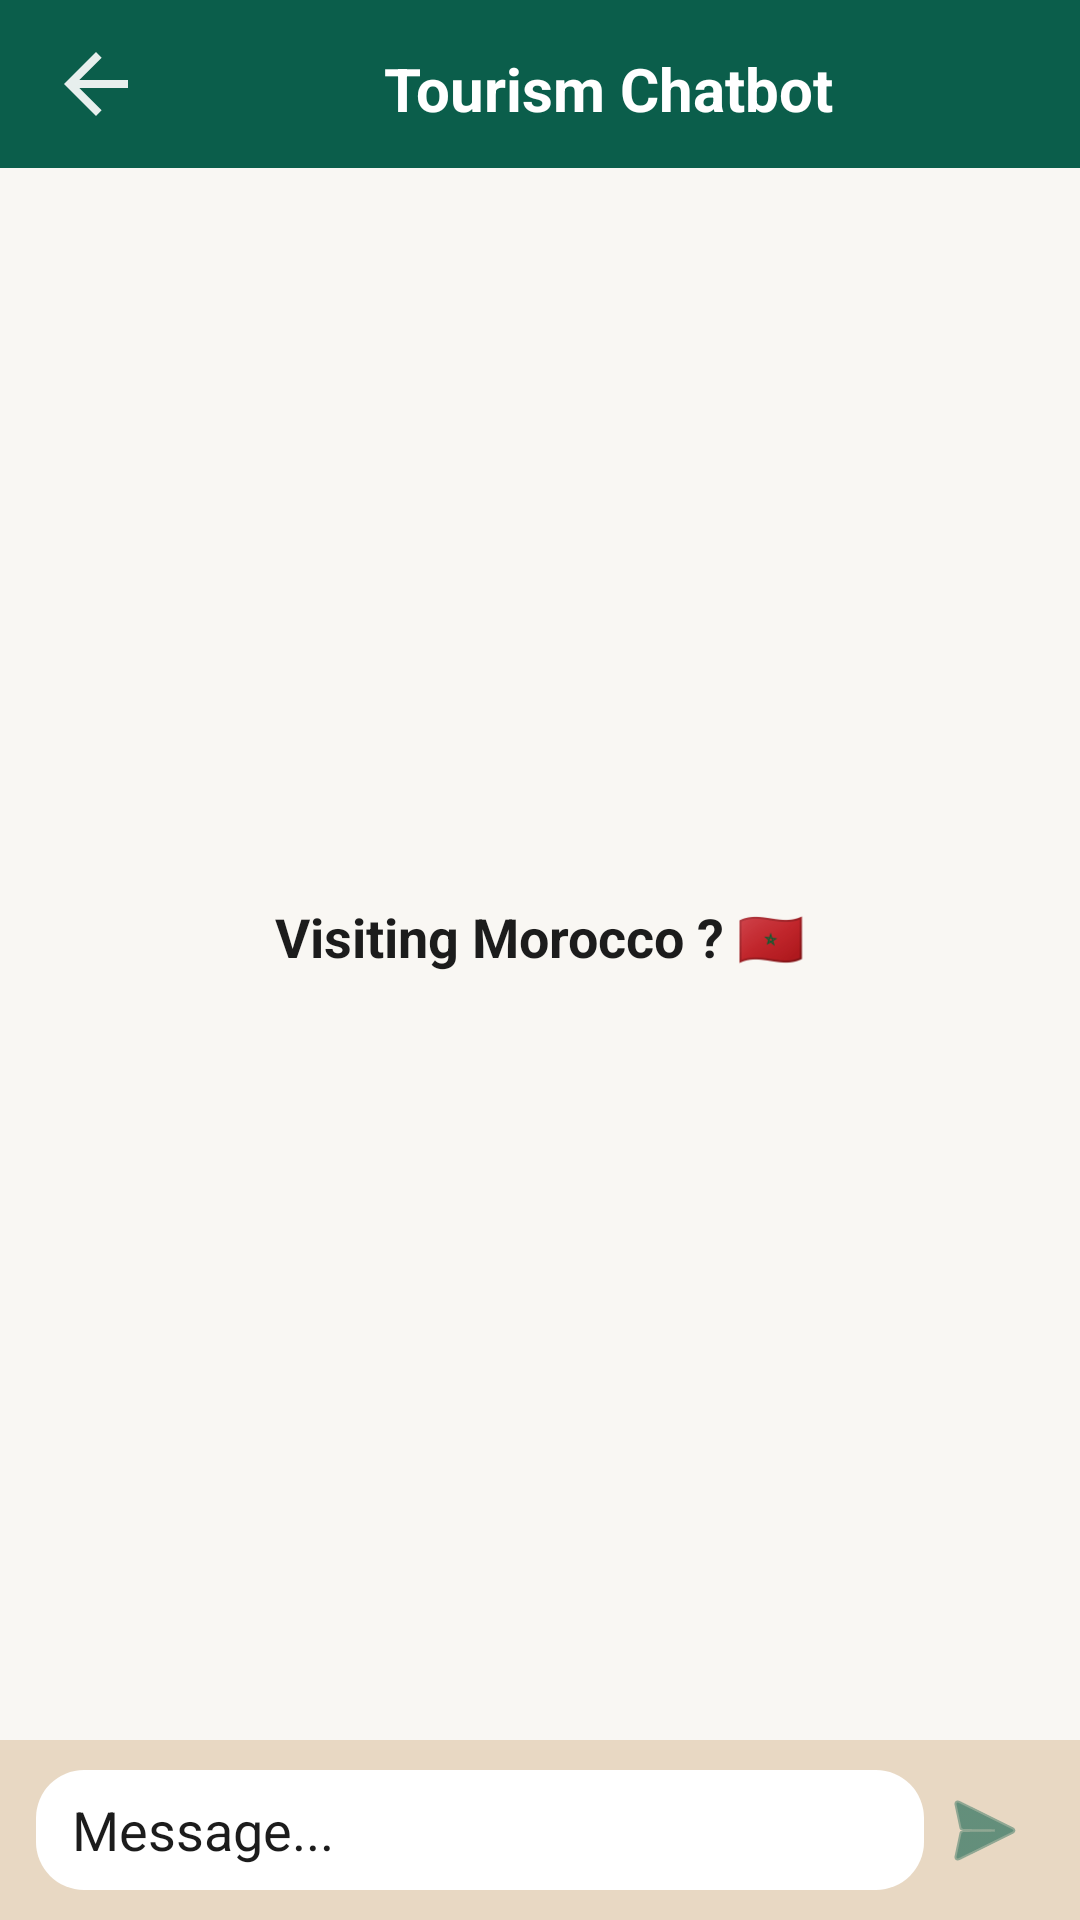

Icons on this 1080×1920 Android screen, each with the point to tap as (x,y):
Back: (96,84)
Send: (985,1830)
